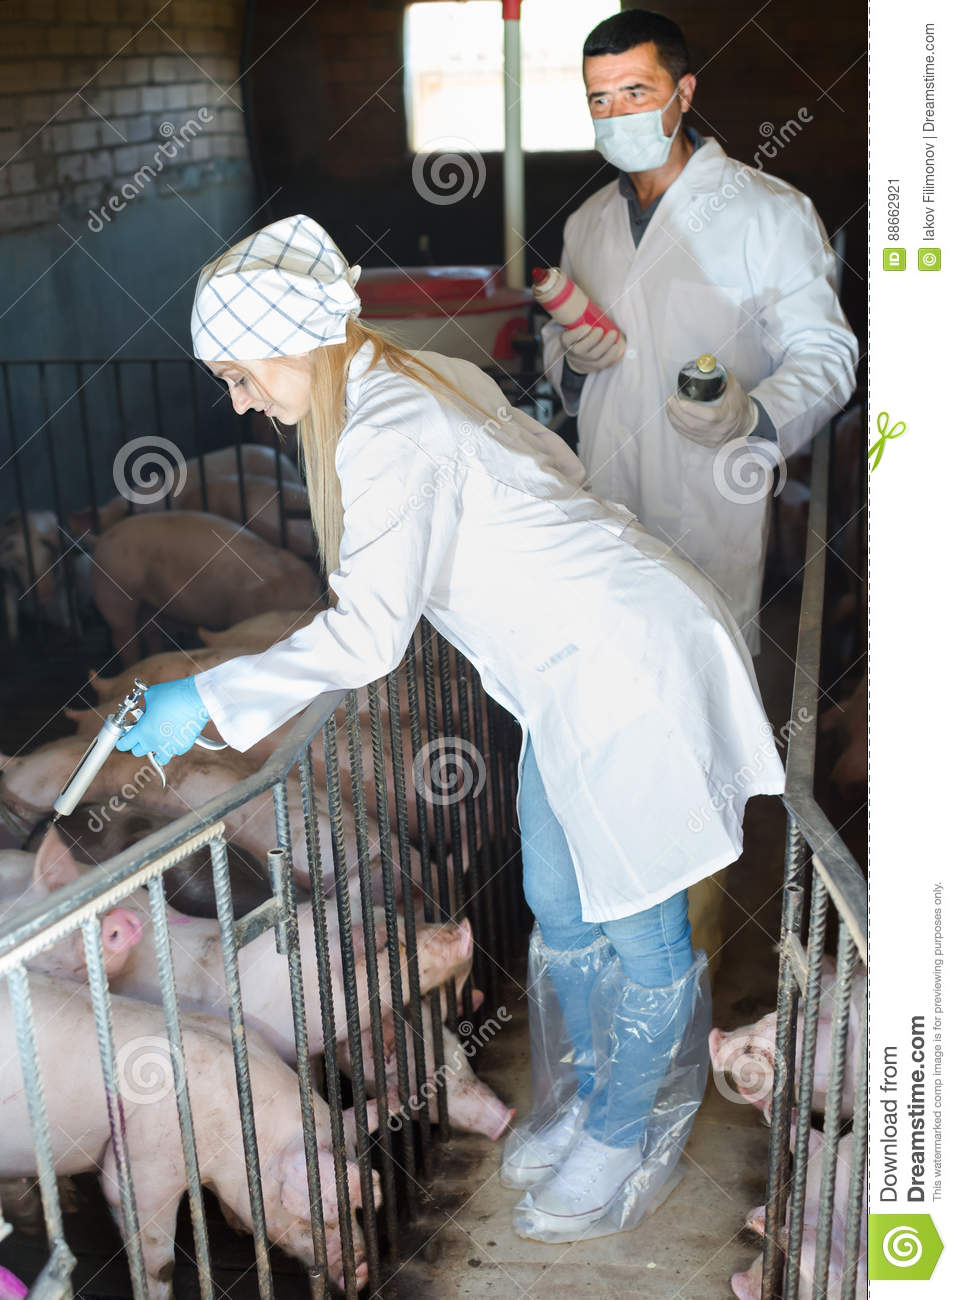mask: (590, 113, 680, 175)
